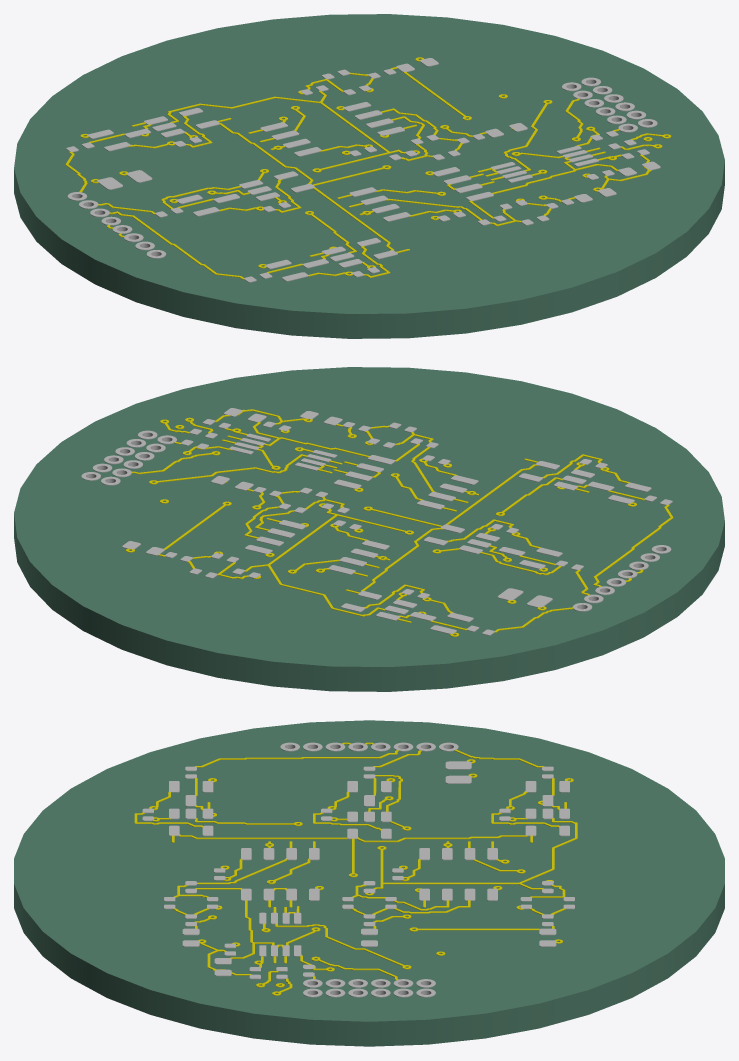
Rendered from AB1A_with_components.glb.
3 views of the same model, one above another, from view 1: azimuth 30°, elevation 25°; view 2: azimuth 150°, elevation 25°; view 3: azimuth 270°, elevation 25° (orthographic).
Parts seen in each view (by area): view 1: =>[0:1:1:5], =>[0:1:1:3], =>[0:1:1:2]; view 2: =>[0:1:1:5], =>[0:1:1:3], =>[0:1:1:2]; view 3: =>[0:1:1:5], =>[0:1:1:3], =>[0:1:1:2].
Boxes of the visible parts, box(x1,y1,x2,y2) form: =>[0:1:1:5]: box(14, 14, 724, 338); =>[0:1:1:3]: box(66, 58, 660, 282); =>[0:1:1:2]: box(65, 57, 671, 279); =>[0:1:1:5]: box(14, 367, 724, 691); =>[0:1:1:3]: box(81, 408, 672, 635); =>[0:1:1:2]: box(126, 409, 673, 636); =>[0:1:1:5]: box(14, 720, 724, 1046); =>[0:1:1:3]: box(142, 742, 574, 997); =>[0:1:1:2]: box(134, 742, 577, 995).
Size of the model in its own units: 0.04 by 0.00162 by 0.0399.
